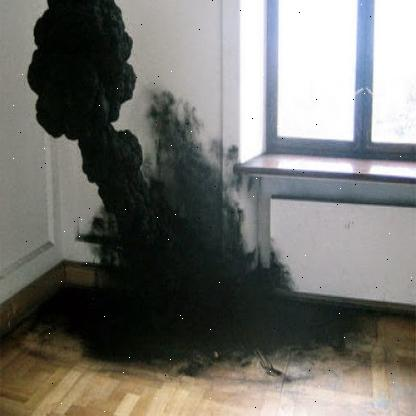smoke: (23, 4, 288, 367)
